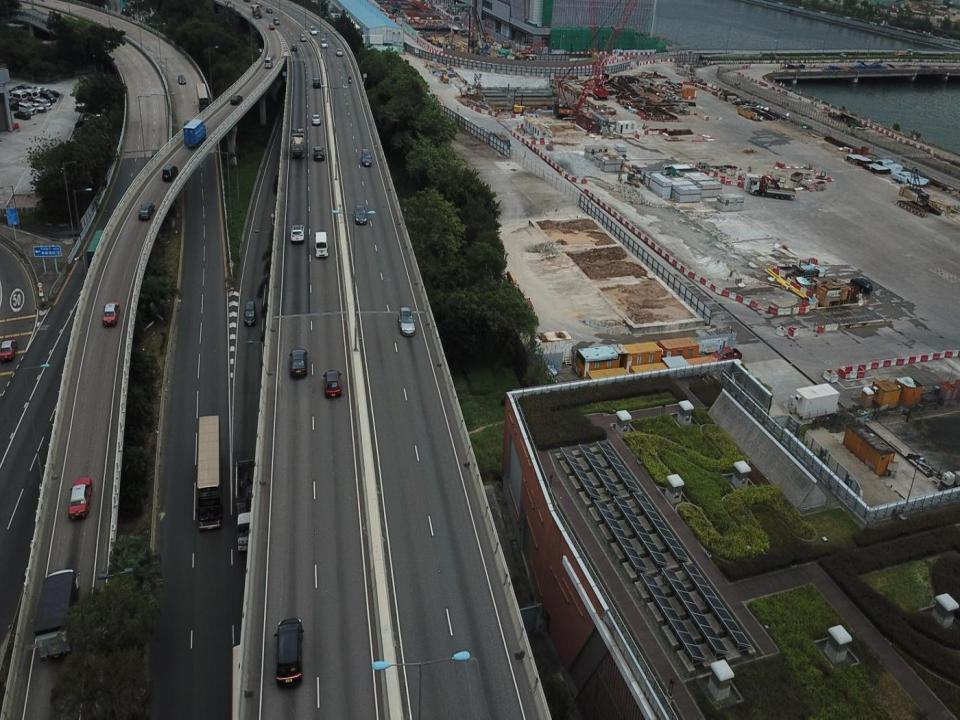bus: (194, 413, 224, 533)
car: (271, 617, 305, 686), (64, 475, 92, 521), (286, 347, 310, 380), (322, 369, 344, 399), (396, 305, 416, 336), (849, 272, 874, 294), (102, 300, 120, 328), (0, 338, 17, 364), (241, 299, 256, 327), (352, 202, 367, 227), (138, 200, 155, 221), (289, 222, 306, 242), (359, 146, 373, 170), (162, 163, 178, 181), (34, 98, 53, 111), (312, 144, 324, 163), (39, 90, 56, 103), (229, 93, 242, 108), (14, 109, 30, 120), (311, 111, 321, 127), (31, 102, 44, 114), (177, 72, 186, 85), (312, 75, 320, 88), (310, 22, 317, 36), (335, 46, 343, 57), (321, 36, 328, 48), (298, 32, 307, 41), (290, 41, 298, 51), (268, 21, 276, 31), (266, 5, 273, 14)
truck: (32, 568, 80, 664), (234, 457, 272, 554), (182, 117, 208, 149), (288, 125, 305, 159)
van: (313, 230, 330, 258), (9, 90, 28, 103), (21, 88, 37, 102), (18, 102, 36, 114), (264, 56, 273, 69)
